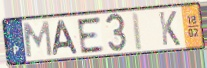3: (105, 11, 129, 55)
A: (52, 19, 80, 57)
E: (75, 15, 106, 56)
I: (131, 11, 144, 53)
K: (157, 10, 182, 48)
M: (22, 20, 54, 60)
